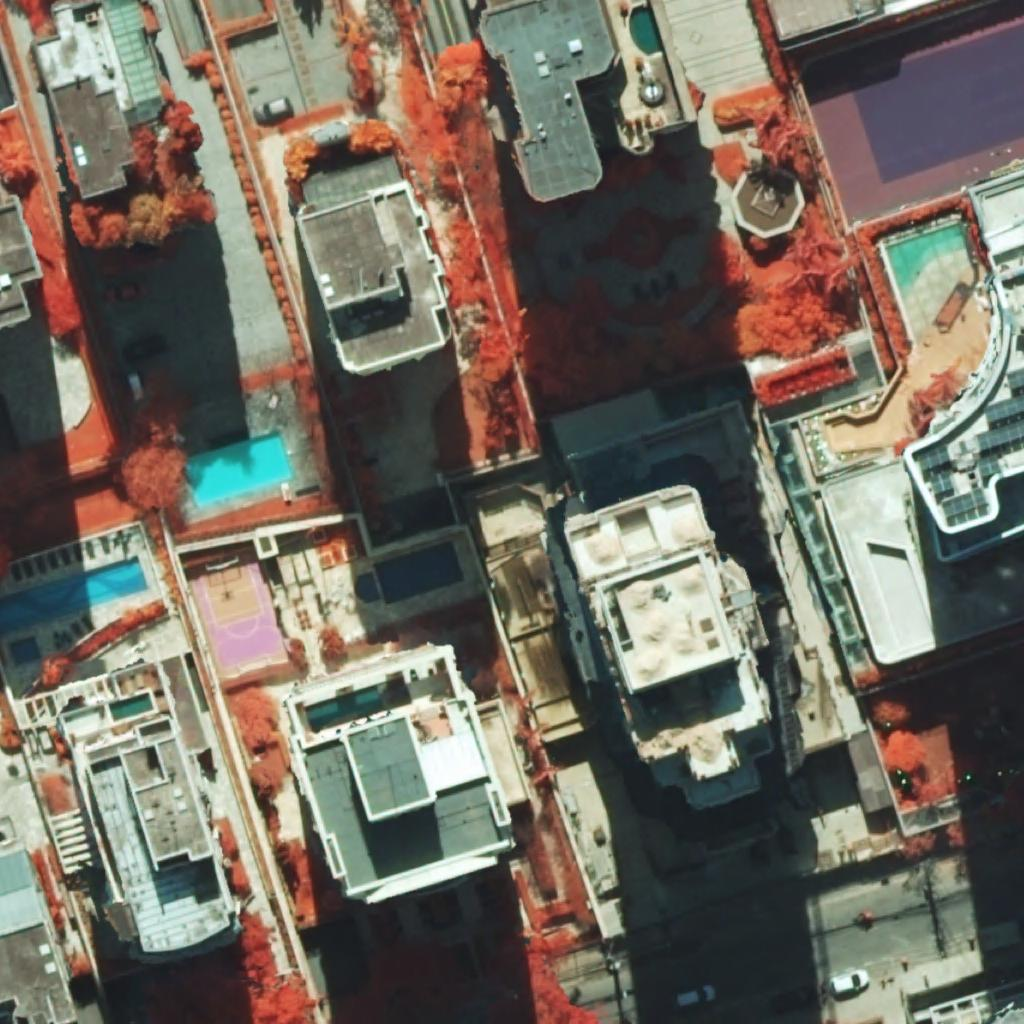pool: (0, 556, 149, 635), (185, 432, 293, 507), (886, 224, 967, 297), (374, 541, 465, 605), (305, 684, 387, 732), (629, 6, 663, 56), (108, 692, 153, 722), (9, 635, 41, 666), (355, 572, 379, 604)
